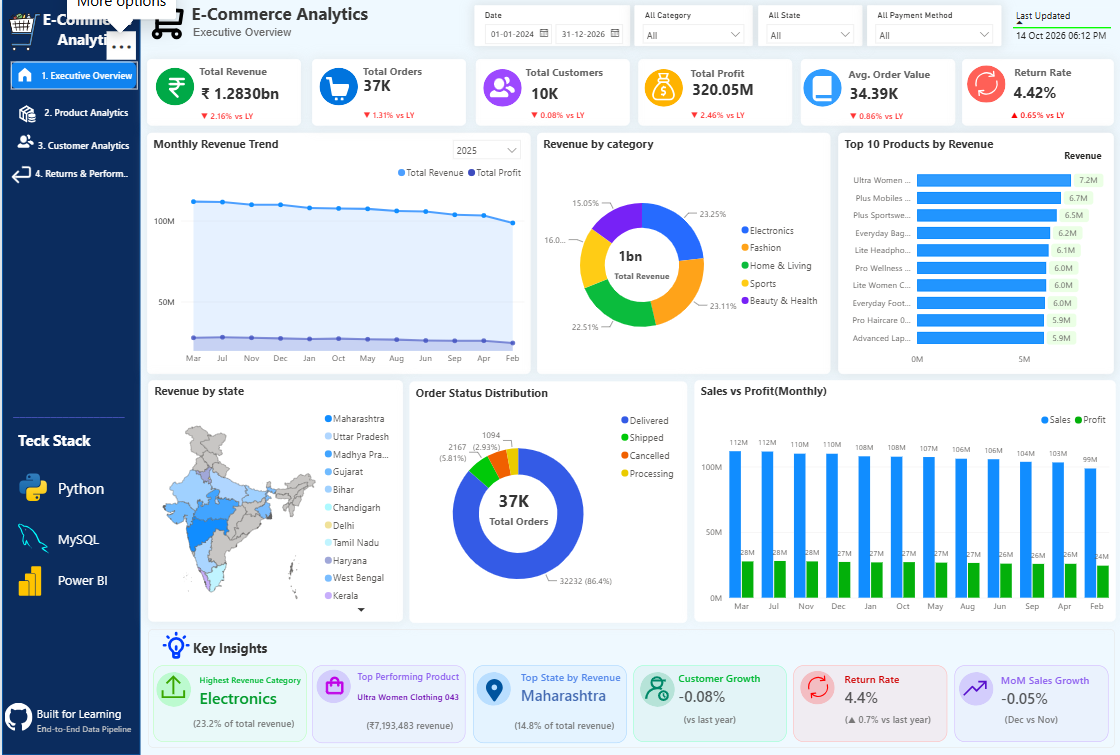

The dashboard page shown, as its layout file describes it:
{"tool":"powerbi","page":{"name":"1. Executive Overview","canvas":[1600,1080],"ordinal":0},"visuals":[{"type":"textbox","box":[258.3,0,358.3,63.1],"z":0},{"type":"image","box":[207.1,2.4,59.5,60.7],"z":1000},{"type":"shape","box":[0,0,197.7,1080.2],"z":2000},{"type":"textbox","box":[267.9,33.3,178.6,36.9],"z":3000},{"type":"shape","box":[207.5,85.1,220,95],"z":4000},{"type":"shape","box":[220,99,55,54],"z":5000},{"type":"image","box":[222,105,55,43],"z":6000},{"type":"textbox","box":[277,87,149,36],"z":7000},{"type":"cardVisual","fields":{"Data":["orders.Total Revenue"]},"box":[255,103,244,59],"z":8000},{"type":"cardVisual","fields":{"Data":["orders.Revenue VS LY"]},"box":[255,137,179,55],"z":9000},{"type":"shape","box":[909,85.1,220,95],"z":10000},{"type":"shape","box":[1140.3,85.1,220.9,95.5],"z":11000},{"type":"shape","box":[677,86,220,95],"z":12000},{"type":"shape","box":[1371.6,85.1,216.4,95.5],"z":13000},{"type":"shape","box":[1145,100,55,54],"z":14000},{"type":"shape","box":[917,100,55,54],"z":15000},{"type":"shape","box":[688,100,55,54],"z":16000},{"type":"shape","box":[1379.1,94,55.2,53.7],"z":17000},{"type":"textbox","box":[1441,89,144.1,35.7],"z":18000},{"type":"textbox","box":[1200,91,157,36],"z":19000},{"type":"textbox","box":[979,91,144.1,35.7],"z":20000},{"type":"textbox","box":[743,90,144,36],"z":21000},{"type":"image","box":[4,19,58,54],"z":22000},{"type":"image","box":[686,94,59,62],"z":23000},{"type":"image","box":[925,104,40,43],"z":24000},{"type":"image","box":[1153,105,36,45],"z":25000},{"type":"image","box":[1346.7,75,120,91.7],"z":26000},{"type":"cardVisual","fields":{"Data":["orders.Total Customers"]},"box":[726,104,125,59],"z":27000},{"type":"cardVisual","fields":{"Data":["orders.Customers VS LY"]},"box":[727,135,156,55],"z":28000},{"type":"cardVisual","fields":{"Data":["orders.Total Profit"]},"box":[958,99,172,59],"z":29000},{"type":"cardVisual","fields":{"Data":["orders.Profit VS LY"]},"box":[955,135,156,55],"z":30000},{"type":"cardVisual","fields":{"Data":["orders.AOV VS LY"]},"box":[1182,137,156,55],"z":31000},{"type":"cardVisual","fields":{"Data":["orders.Average Order Value"]},"box":[1182,104,172,59],"z":32000},{"type":"cardVisual","fields":{"Data":["returns.Return Rate %"]},"box":[1416.4,101.5,172,59],"z":33000},{"type":"cardVisual","fields":{"Data":["returns.Return Rate VS LY"]},"box":[1413,135,156,55],"z":34000},{"type":"slicer","fields":{"Values":["calendar.date"]},"box":[675.2,8.4,222.3,58],"z":35000},{"type":"slicer","fields":{"Values":["products.category"]},"box":[904.1,8.4,168.8,58],"z":36000},{"type":"slicer","fields":{"Values":["customers.state"]},"box":[1079.6,8.4,148.7,58],"z":37000},{"type":"slicer","fields":{"Values":["orders.payment_method"]},"box":[1235,8.4,192.2,58],"z":38000},{"type":"tableEx","fields":{"Values":["RefreshInfo.Last Updated Text"]},"box":[1437,8,163,65],"z":39000},{"type":"lineChart","title":"Monthly Revenue Trend","fields":{"Category":["calendar.Month Name"],"Y":["orders.Total Revenue","orders.Total Profit"]},"box":[206.5,190.3,548.4,345.2],"z":40000},{"type":"slicer","fields":{"Values":["calendar.Year"]},"box":[634.5,191.4,117.2,44.8],"z":41000},{"type":"donutChart","title":" Revenue by category","fields":{"Category":["products.category"],"Y":["orders.Total Revenue"]},"box":[764.5,190.3,419.4,345.2],"z":42000},{"type":"cardVisual","fields":{"Data":["orders.Total Revenue"]},"box":[851.6,333.9,110,62],"z":43000},{"type":"textbox","box":[869.4,380.6,104,28],"z":44000},{"type":"clusteredBarChart","title":"Top 10 Products  by Revenue","fields":{"Y":["orders.Total Revenue"],"Category":["products.product_name"]},"box":[1195.2,190.3,393.5,345],"z":45000},{"type":"shapeMap","title":" Revenue by state","fields":{"Value":["orders.Total Revenue"],"Category":["customers.state"],"Series":["customers.state"]},"box":[208.1,545.2,364,345.2],"z":46000},{"type":"donutChart","title":"Order Status Distribution","fields":{"Category":["orders.order_status"],"Y":["Count(orders.order_id)"]},"box":[582.3,546.8,396.8,345.2],"z":47000},{"type":"textbox","box":[52,9,146,73],"z":48000},{"type":"cardVisual","fields":{"Data":["orders.Total Orders"]},"box":[680.6,680.6,159.1,68.2],"z":49000},{"type":"textbox","box":[691.9,730.6,101.5,37.3],"z":50000},{"type":"clusteredColumnChart","title":"Sales vs Profit(Monthly)","fields":{"Category":["calendar.Month Name"],"Y":["orders.Total Revenue","orders.Total Profit"]},"box":[988.7,545.2,601.6,345.2],"z":51000},{"type":"shape","box":[208.1,900,1380.6,169.4],"z":52000},{"type":"cardVisual","fields":{"Data":["orders.Category Percentage Text"]},"box":[216.1,951.6,219.4,109.7],"z":53000},{"type":"cardVisual","fields":{"Data":["orders.Top Revenue Category"]},"box":[264.5,946.8,183.9,85.5],"z":54000},{"type":"shape","box":[217.7,958.1,54.8,54.8],"z":55000},{"type":"image","box":[222.6,964.5,43.5,35.5],"z":56000},{"type":"image","box":[222.6,900,51.6,46.8],"z":57000},{"type":"textbox","box":[267.7,909.7,130.6,38.7],"z":58000},{"type":"cardVisual","fields":{"Data":["orders.Product Revenue Text"]},"box":[443.5,951.6,219.4,111.3],"z":59000},{"type":"shape","box":[446.8,954.8,54.8,53.2],"z":60000},{"type":"image","box":[450,965,50,33],"z":61000},{"type":"cardVisual","fields":{"Data":["orders.Return Rate Subtitle"]},"box":[1130.6,951.6,220,109.7],"z":62000},{"type":"cardVisual","fields":{"Data":["orders.MoM Sales Growth Subtitle"]},"box":[1361.3,951.6,220,109.7],"z":63000},{"type":"cardVisual","fields":{"Data":["orders.Customer Growth Subtitle"]},"box":[901.6,951.6,219.4,109.7],"z":64000},{"type":"shape","box":[1364.5,958.1,54.8,53.2],"z":65000},{"type":"shape","box":[1137.1,956.5,54.8,53.2],"z":66000},{"type":"shape","box":[909.7,958.1,54.8,54.8],"z":67000},{"type":"image","box":[912.9,964.5,46.8,43.5],"z":68000},{"type":"image","box":[1140.3,964.5,50,37.1],"z":69000},{"type":"image","box":[1364.5,964.5,51.6,38.7],"z":70000},{"type":"cardVisual","fields":{"Data":["orders.Product Insight"]},"box":[493.5,946.8,175.8,111.3],"z":71000},{"type":"cardVisual","fields":{"Data":["orders.State Revenue Percentage Text"]},"box":[672.6,951.6,219.4,111.3],"z":72000},{"type":"cardVisual","fields":{"Data":["orders.State Insight"]},"box":[722.6,938.7,181.2,85.9],"z":73000},{"type":"shape","box":[675.8,958.1,54.8,53.2],"z":74000},{"type":"image","box":[679,971,50,32],"z":75000},{"type":"cardVisual","fields":{"Data":["orders.Customer Growth Text"]},"box":[948.4,940.3,169.4,85.9],"z":76000},{"type":"cardVisual","fields":{"Data":["orders.Return Rate Text"]},"box":[1185.5,943.5,169.4,85.9],"z":77000},{"type":"cardVisual","fields":{"Data":["orders.MoM Sales Growth Text"]},"box":[1408.1,945.2,169.4,85.9],"z":78000},{"type":"textbox","box":[10.7,567.9,182.1,41.1],"z":79000},{"type":"image","box":[19.4,674.2,50,45.2],"z":80000},{"type":"textbox","box":[17.9,610.7,139.3,39.3],"z":81000},{"type":"textbox","box":[74.2,679,88,39],"z":82000},{"type":"image","box":[19.4,743.5,50,56],"z":83000},{"type":"image","box":[11.3,809.7,58.1,45.2],"z":84000},{"type":"textbox","box":[74.2,753.2,90.6,46.9],"z":85000},{"type":"textbox","box":[74.2,812.9,89.1,42.2],"z":86000},{"type":"image","box":[3.2,1004.8,40,40],"z":87000},{"type":"textbox","box":[45.2,1004.8,141.9,41.9],"z":88000},{"type":"textbox","box":[45.2,1029,167.7,32.3],"z":89000},{"type":"actionButton","title":"1. Executive Overview","box":[13,90,179,39],"z":90000},{"type":"image","box":[14,98,37,21],"z":91000},{"type":"actionButton","title":"1. Executive Overview","box":[5,142,179,39],"z":92000},{"type":"image","box":[5,150.4,61.8,28.4],"z":93000},{"type":"actionButton","title":"1. Executive Overview","box":[3.3,229,180.5,40.1],"z":94000},{"type":"actionButton","title":"1. Executive Overview","box":[6.7,188.8,178.8,38.4],"z":95000},{"type":"image","box":[11.7,235.6,30.1,30.1],"z":96000},{"type":"image","box":[11.7,183.8,43.5,38.4],"z":97000},{"type":"textbox","box":[1512,209.3,68,28],"z":98000},{"type":"shape","box":[443,85,220,95],"z":99000},{"type":"shape","box":[454,99,55,54],"z":100000},{"type":"image","box":[458,110,45,34],"z":101000},{"type":"cardVisual","fields":{"Data":["orders.Total Orders"]},"box":[488,93,131,59],"z":102000},{"type":"textbox","box":[510,87,144,36],"z":103000},{"type":"cardVisual","fields":{"Data":["orders.Orders VS LY"]},"box":[488,135,156,55],"z":104000}]}

Visuals, with their boxes on the page's 1600x1080 design canvas (x1, y1, x2, y2). These are canvas units, not pixel positions in the 1120x755 screenshot, which may show the page scaled, cropped or inside an application window:
textbox: [258,0,617,63]
image: [207,2,267,63]
shape: [0,0,198,1080]
textbox: [268,33,446,70]
shape: [208,85,428,180]
shape: [220,99,275,153]
image: [222,105,277,148]
textbox: [277,87,426,123]
cardVisual - orders.Total Revenue: [255,103,499,162]
cardVisual - orders.Revenue VS LY: [255,137,434,192]
shape: [909,85,1129,180]
shape: [1140,85,1361,181]
shape: [677,86,897,181]
shape: [1372,85,1588,181]
shape: [1145,100,1200,154]
shape: [917,100,972,154]
shape: [688,100,743,154]
shape: [1379,94,1434,148]
textbox: [1441,89,1585,125]
textbox: [1200,91,1357,127]
textbox: [979,91,1123,127]
textbox: [743,90,887,126]
image: [4,19,62,73]
image: [686,94,745,156]
image: [925,104,965,147]
image: [1153,105,1189,150]
image: [1347,75,1467,167]
cardVisual - orders.Total Customers: [726,104,851,163]
cardVisual - orders.Customers VS LY: [727,135,883,190]
cardVisual - orders.Total Profit: [958,99,1130,158]
cardVisual - orders.Profit VS LY: [955,135,1111,190]
cardVisual - orders.AOV VS LY: [1182,137,1338,192]
cardVisual - orders.Average Order Value: [1182,104,1354,163]
cardVisual - returns.Return Rate %: [1416,102,1588,160]
cardVisual - returns.Return Rate VS LY: [1413,135,1569,190]
slicer - calendar.date: [675,8,898,66]
slicer - products.category: [904,8,1073,66]
slicer - customers.state: [1080,8,1228,66]
slicer - orders.payment_method: [1235,8,1427,66]
tableEx - RefreshInfo.Last Updated Text: [1437,8,1600,73]
"Monthly Revenue Trend" lineChart: [206,190,755,536]
slicer - calendar.Year: [634,191,752,236]
" Revenue by category" donutChart: [764,190,1184,536]
cardVisual - orders.Total Revenue: [852,334,962,396]
textbox: [869,381,973,409]
"Top 10 Products  by Revenue" clusteredBarChart: [1195,190,1589,535]
" Revenue by state" shapeMap: [208,545,572,890]
"Order Status Distribution" donutChart: [582,547,979,892]
textbox: [52,9,198,82]
cardVisual - orders.Total Orders: [681,681,840,749]
textbox: [692,731,793,768]
"Sales vs Profit(Monthly)" clusteredColumnChart: [989,545,1590,890]
shape: [208,900,1589,1069]
cardVisual - orders.Category Percentage Text: [216,952,436,1061]
cardVisual - orders.Top Revenue Category: [264,947,448,1032]
shape: [218,958,272,1013]
image: [223,964,266,1000]
image: [223,900,274,947]
textbox: [268,910,398,948]
cardVisual - orders.Product Revenue Text: [444,952,663,1063]
shape: [447,955,502,1008]
image: [450,965,500,998]
cardVisual - orders.Return Rate Subtitle: [1131,952,1351,1061]
cardVisual - orders.MoM Sales Growth Subtitle: [1361,952,1581,1061]
cardVisual - orders.Customer Growth Subtitle: [902,952,1121,1061]
shape: [1364,958,1419,1011]
shape: [1137,956,1192,1010]
shape: [910,958,964,1013]
image: [913,964,960,1008]
image: [1140,964,1190,1002]
image: [1364,964,1416,1003]
cardVisual - orders.Product Insight: [494,947,669,1058]
cardVisual - orders.State Revenue Percentage Text: [673,952,892,1063]
cardVisual - orders.State Insight: [723,939,904,1025]
shape: [676,958,731,1011]
image: [679,971,729,1003]
cardVisual - orders.Customer Growth Text: [948,940,1118,1026]
cardVisual - orders.Return Rate Text: [1186,944,1355,1029]
cardVisual - orders.MoM Sales Growth Text: [1408,945,1578,1031]
textbox: [11,568,193,609]
image: [19,674,69,719]
textbox: [18,611,157,650]
textbox: [74,679,162,718]
image: [19,744,69,800]
image: [11,810,69,855]
textbox: [74,753,165,800]
textbox: [74,813,163,855]
image: [3,1005,43,1045]
textbox: [45,1005,187,1047]
textbox: [45,1029,213,1061]
"1. Executive Overview" actionButton: [13,90,192,129]
image: [14,98,51,119]
"1. Executive Overview" actionButton: [5,142,184,181]
image: [5,150,67,179]
"1. Executive Overview" actionButton: [3,229,184,269]
"1. Executive Overview" actionButton: [7,189,186,227]
image: [12,236,42,266]
image: [12,184,55,222]
textbox: [1512,209,1580,237]
shape: [443,85,663,180]
shape: [454,99,509,153]
image: [458,110,503,144]
cardVisual - orders.Total Orders: [488,93,619,152]
textbox: [510,87,654,123]
cardVisual - orders.Orders VS LY: [488,135,644,190]
